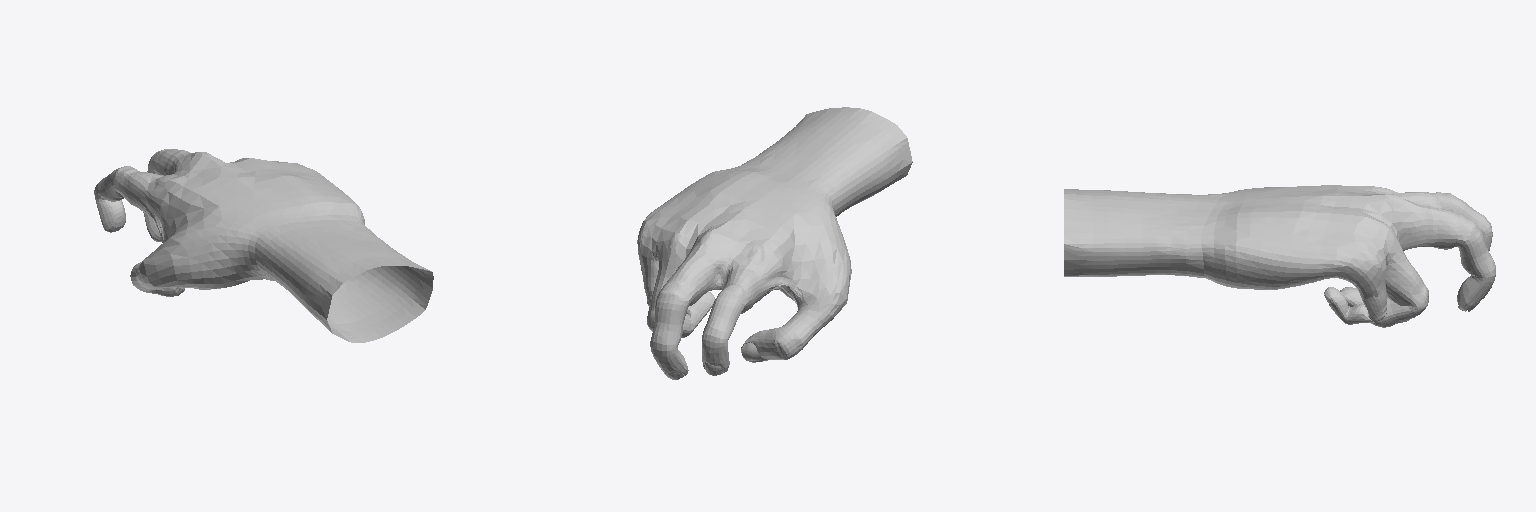
Rendered from stretch.obj.
3 views of the same model, side by side, from view 1: azimuth 30°, elevation 25°; view 2: azimuth 150°, elevation 25°; view 3: azimuth 270°, elevation 25° (orthographic).
Visible parts, largest first — view 1: rightHand; view 2: rightHand; view 3: rightHand.
Part boxes in pixels (x1,y1,x2,y2): rightHand: (94,149,433,342); rightHand: (637,107,912,379); rightHand: (1064,185,1495,327).
Size of the model in its own units: 2.88 by 1.9 by 5.75.